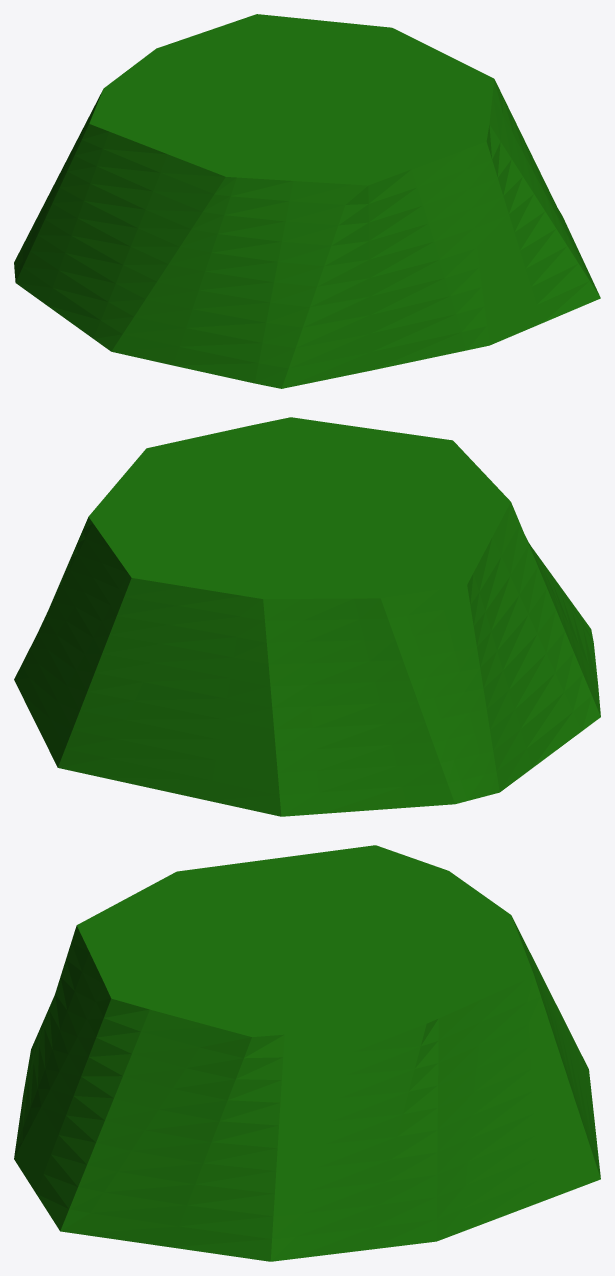
The model's file is Platform_3.fbx.
3 renders of one model, top to bottom at view 1: azimuth 30°, elevation 25°; view 2: azimuth 150°, elevation 25°; view 3: azimuth 270°, elevation 25°, orthographic. The views are drawn at different scales.
Visible parts, largest first — view 1: Loft, Cap_1; view 2: Loft, Cap_1; view 3: Loft, Cap_1.
Boxes of the visible parts, x1=… form: Loft: x1=14, y1=79, x2=600, y2=388; Cap_1: x1=89, y1=14, x2=494, y2=185; Loft: x1=14, y1=502, x2=600, y2=816; Cap_1: x1=88, y1=417, x2=510, y2=598; Loft: x1=14, y1=917, x2=600, y2=1261; Cap_1: x1=77, y1=845, x2=533, y2=1036.
Size of the model in its own units: 771 by 250 by 728.
